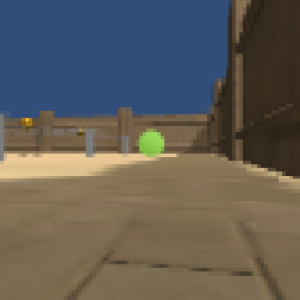goodGoal: (137, 128, 166, 158)
goodGoalMulti: (20, 115, 32, 130), (75, 126, 85, 139)
wall: (84, 131, 95, 156), (1, 112, 6, 163), (121, 135, 131, 155)
